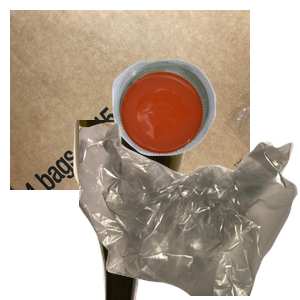cardboard: (10, 10, 250, 190)
glass: (71, 120, 254, 300)
plastic: (110, 57, 300, 205)
trash: (79, 120, 300, 300)
